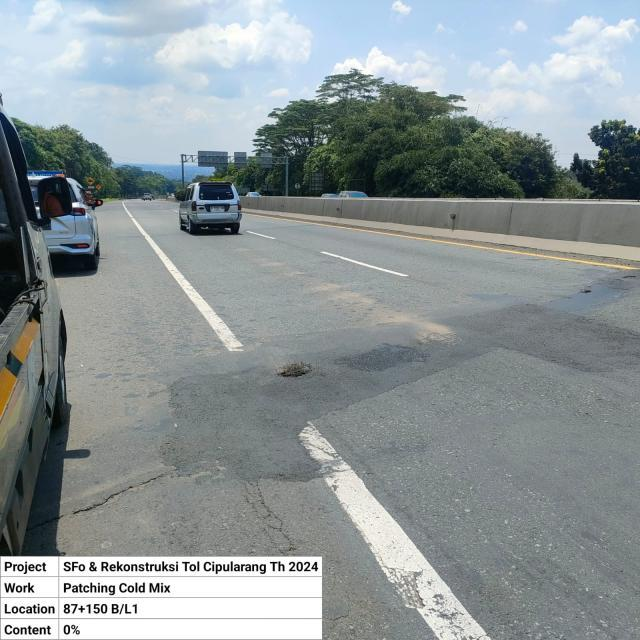Buraco: (269, 360, 317, 380), (574, 287, 594, 295)
